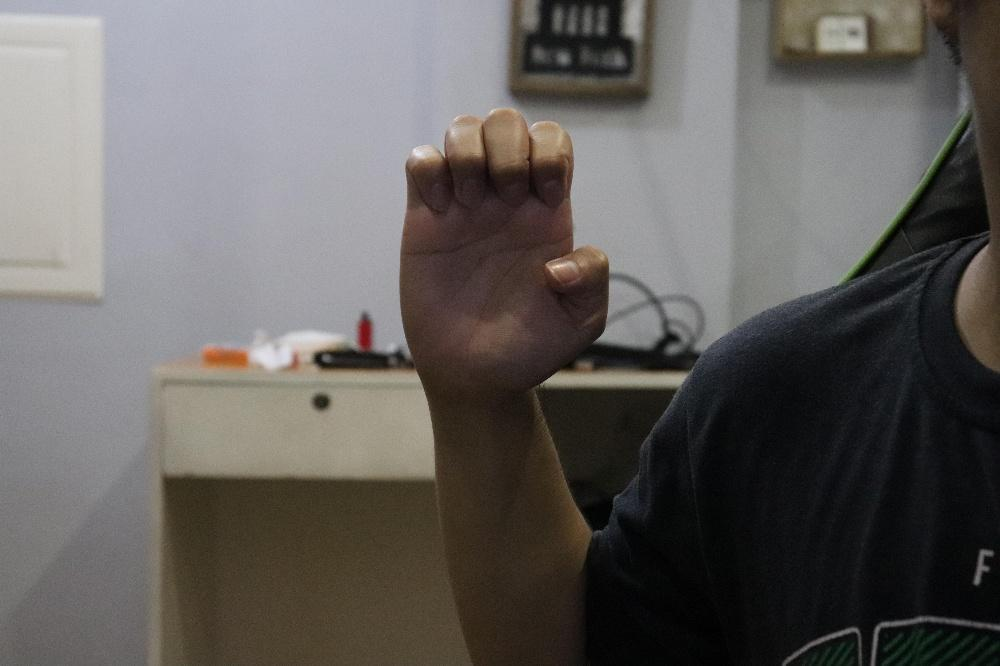e: (398, 105, 608, 397)
